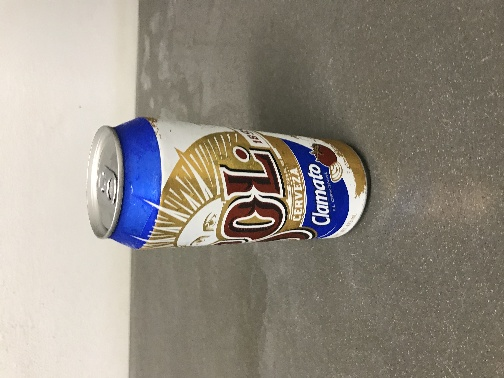SCL: (64, 82, 271, 179)
